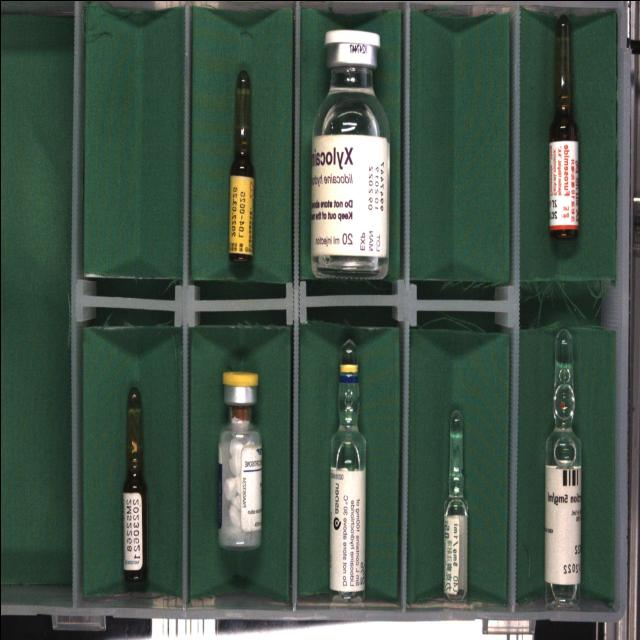Vials: (310, 28, 389, 278), (217, 371, 261, 548)
